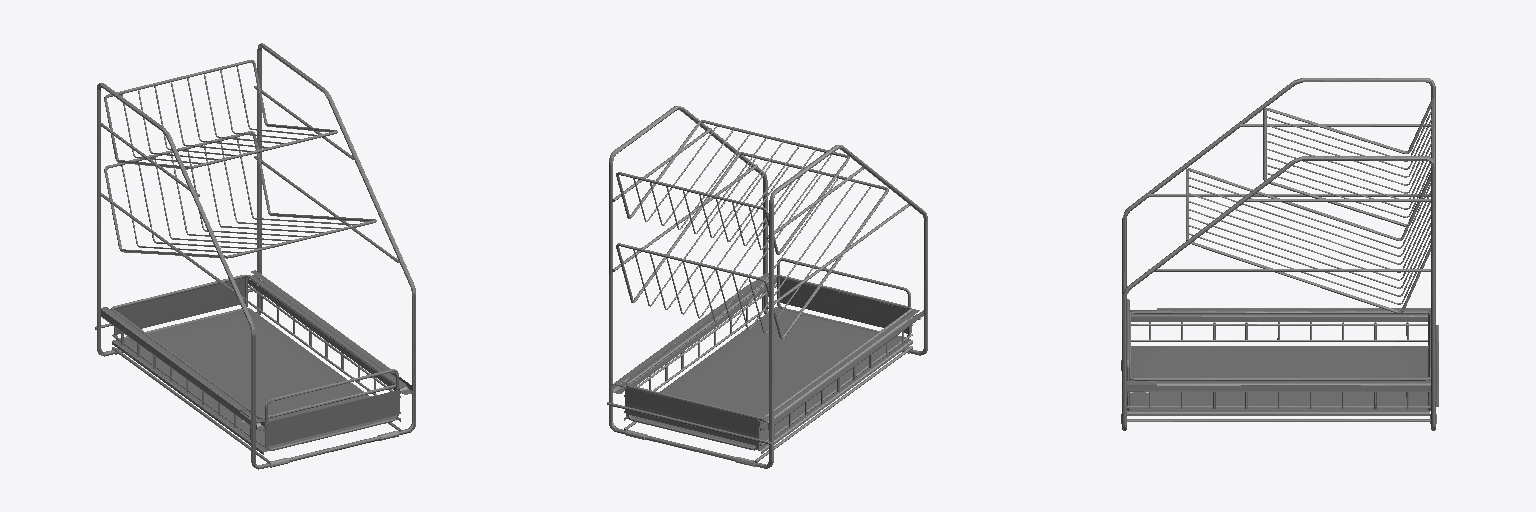
3 renders of one model, left to right at view 1: azimuth 30°, elevation 25°; view 2: azimuth 150°, elevation 25°; view 3: azimuth 270°, elevation 25°, orthographic.
Parts seen in each view (by area): view 1: solid_002; view 2: solid_002; view 3: solid_002.
Boxes of the visible parts, x1=… form: solid_002: x1=95, y1=43, x2=415, y2=469; solid_002: x1=607, y1=106, x2=927, y2=468; solid_002: x1=1122, y1=78, x2=1438, y2=430.
Size of the model in its own units: 0.8177 by 1.32 by 1.36.
1 materials, 1 textured.